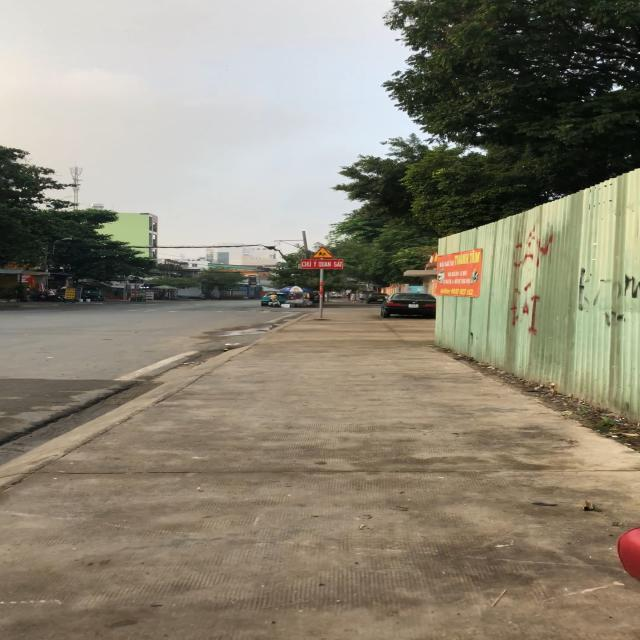Bien bao tre em: (312, 246, 336, 258)
